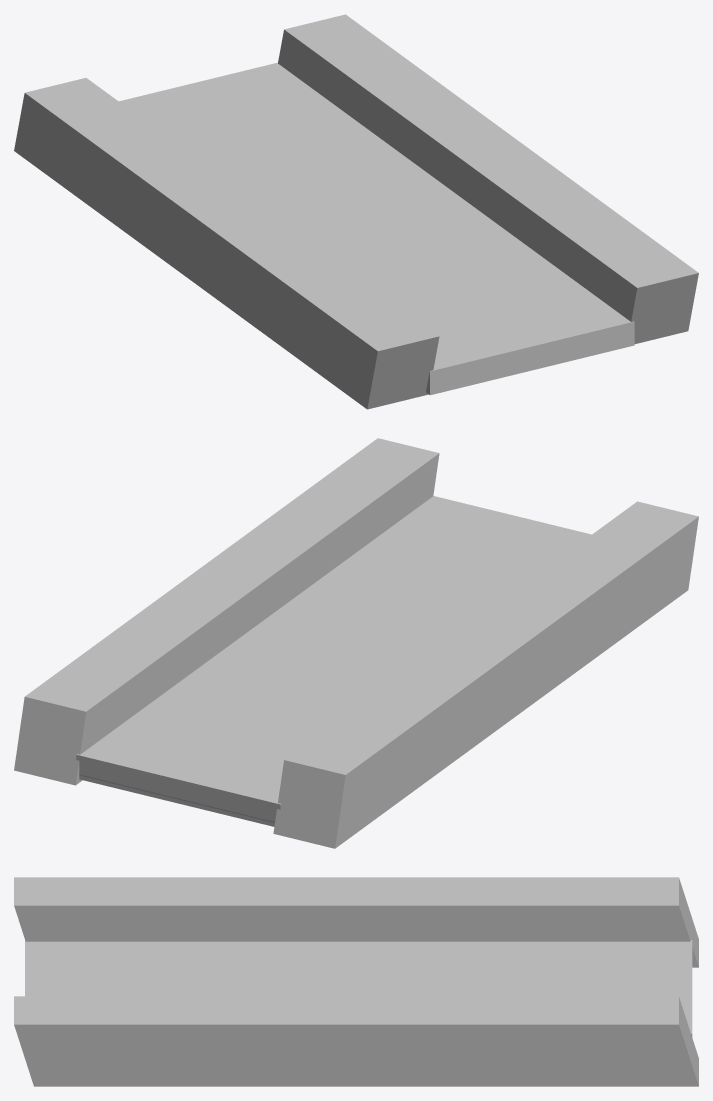
File: SM_BridgeSegment_01.fbx
3 renders of one model, top to bottom at view 1: azimuth 30°, elevation 25°; view 2: azimuth 150°, elevation 25°; view 3: azimuth 270°, elevation 25°, orthographic. The views are drawn at different scales.
Visible parts, largest first — view 1: SM_BridgeSegment_01_ConvexHulls; view 2: SM_BridgeSegment_01_ConvexHulls; view 3: SM_BridgeSegment_01_ConvexHulls.
Boxes of the visible parts, x1,y1,x2,y2 form: SM_BridgeSegment_01_ConvexHulls: (14,14,698,409); SM_BridgeSegment_01_ConvexHulls: (14,438,698,848); SM_BridgeSegment_01_ConvexHulls: (14,877,698,1086).
Size of the model in its own units: 521 by 1023 by 102.
4 materials, 3 textured.
